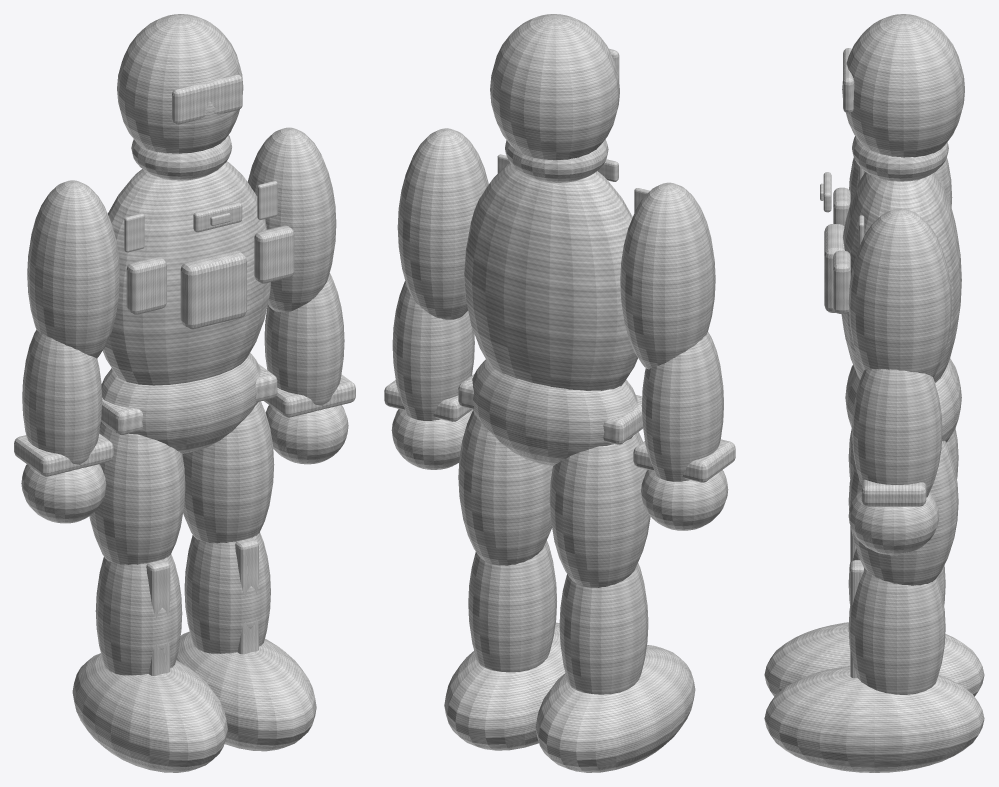
File: hazmat_suit_variant_d.glb
3 views of the same model, side by side, from view 1: azimuth 30°, elevation 25°; view 2: azimuth 150°, elevation 25°; view 3: azimuth 270°, elevation 25° (orthographic). The views are drawn at different scales.
Parts seen in each view (by area): view 1: Torso suit shell.003, Boot.007, Upper arm suit.006, Helmet placeholder, Thigh suit.006, Boot, Upper arm suit.007, Thigh suit.007, Hip section, Forearm suit.007, Shin suit, Shin suit.007 (+16 smaller); view 2: Torso suit shell.003, Helmet placeholder, Upper arm suit.006, Boot.007, Upper arm suit.007, Thigh suit.006, Thigh suit.007, Hip section, Shin suit, Shin suit.007, Forearm suit.007, Boot (+7 smaller); view 3: Boot, Upper arm suit.007, Helmet placeholder, Shin suit, Forearm suit, Torso suit shell.003, Boot.007, Thigh suit.007, Glove, Neck seal, Hip section, Wrist seal.007 (+7 smaller).
Boxes of the visible parts, x1,y1,x2,y2 form: Torso suit shell.003: (102, 161, 270, 385); Boot.007: (72, 653, 227, 772); Upper arm suit.006: (27, 180, 119, 358); Helmet placeholder: (117, 14, 243, 153); Thigh suit.006: (89, 422, 185, 564); Boot: (176, 631, 316, 751); Upper arm suit.007: (247, 127, 336, 312); Thigh suit.007: (182, 401, 274, 543); Hip section: (101, 353, 260, 453); Forearm suit.007: (22, 330, 102, 469); Shin suit: (184, 532, 270, 653); Shin suit.007: (95, 554, 182, 675); Torso suit shell.003: (464, 163, 637, 390); Helmet placeholder: (490, 14, 619, 160); Upper arm suit.006: (620, 182, 715, 369); Boot.007: (535, 645, 695, 772); Upper arm suit.007: (397, 128, 488, 319); Thigh suit.006: (549, 432, 650, 587); Thigh suit.007: (458, 410, 552, 565); Hip section: (472, 359, 637, 466); Shin suit: (468, 540, 556, 672); Shin suit.007: (559, 563, 648, 694); Forearm suit.007: (641, 332, 723, 481); Boot: (444, 622, 565, 750); Boot: (764, 666, 984, 772); Upper arm suit.007: (848, 208, 952, 377); Helmet placeholder: (842, 14, 964, 157); Shin suit: (848, 568, 945, 694); Forearm suit: (852, 369, 942, 497); Torso suit shell.003: (841, 172, 961, 382); Boot.007: (764, 622, 984, 696); Thigh suit.007: (848, 441, 958, 585); Glove: (848, 489, 939, 555); Neck seal: (852, 136, 948, 181); Hip section: (845, 358, 961, 442); Wrist seal.007: (861, 479, 926, 506).
Size of what is drawn, in the model's own units: 1.13 by 2.47 by 0.68.
Materials: 7 (7 with a texture image).
